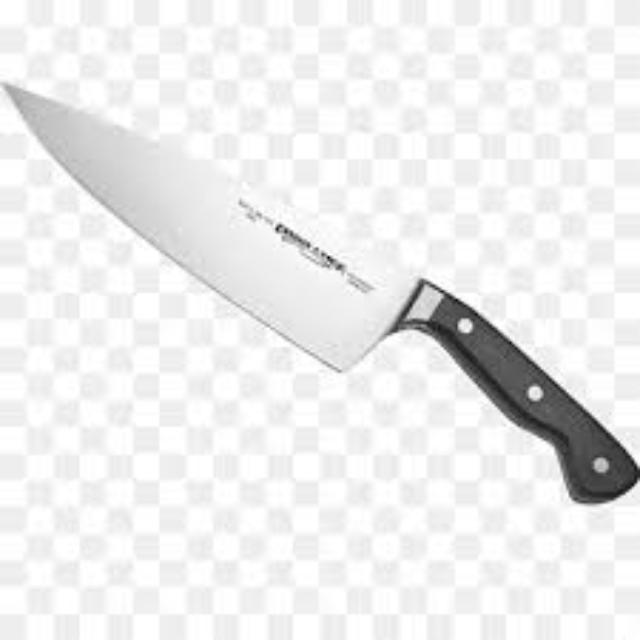knife: (0, 77, 638, 503)
